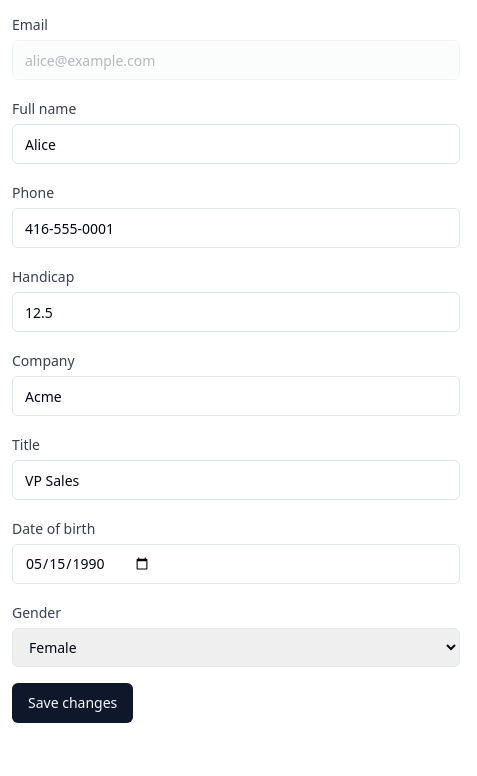
Test: ProfileForm › shows success message after save
Click the button "Save changes". click: [73, 703]
box: [12,683,133,723]
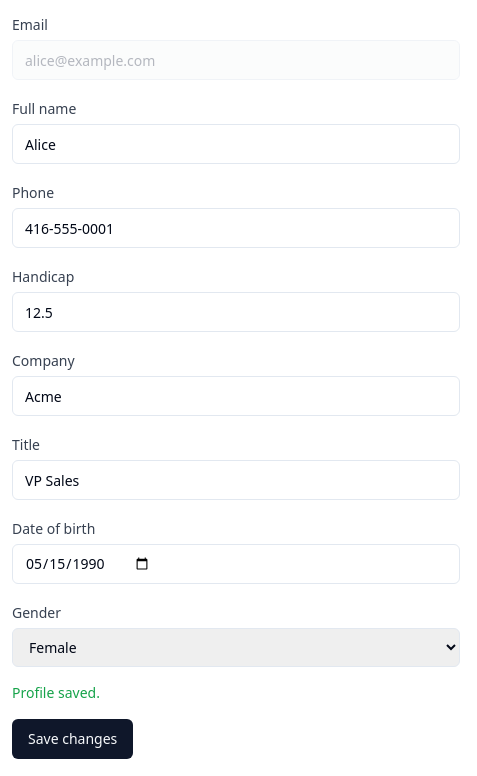
Expected: the message "Profile saved." is shown, [12,683,100,702]
